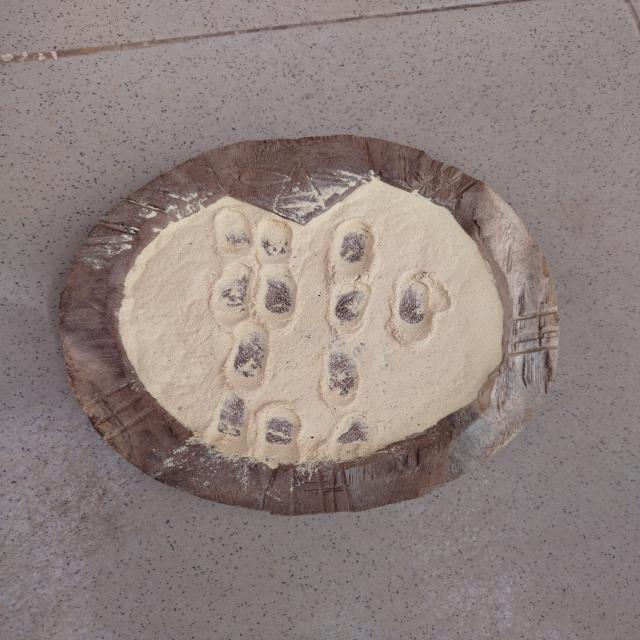double: (322, 278, 444, 346), (209, 389, 307, 467), (206, 267, 308, 328), (209, 206, 299, 264)
single: (322, 221, 380, 277), (213, 332, 273, 386), (328, 413, 378, 461), (324, 351, 362, 406)
